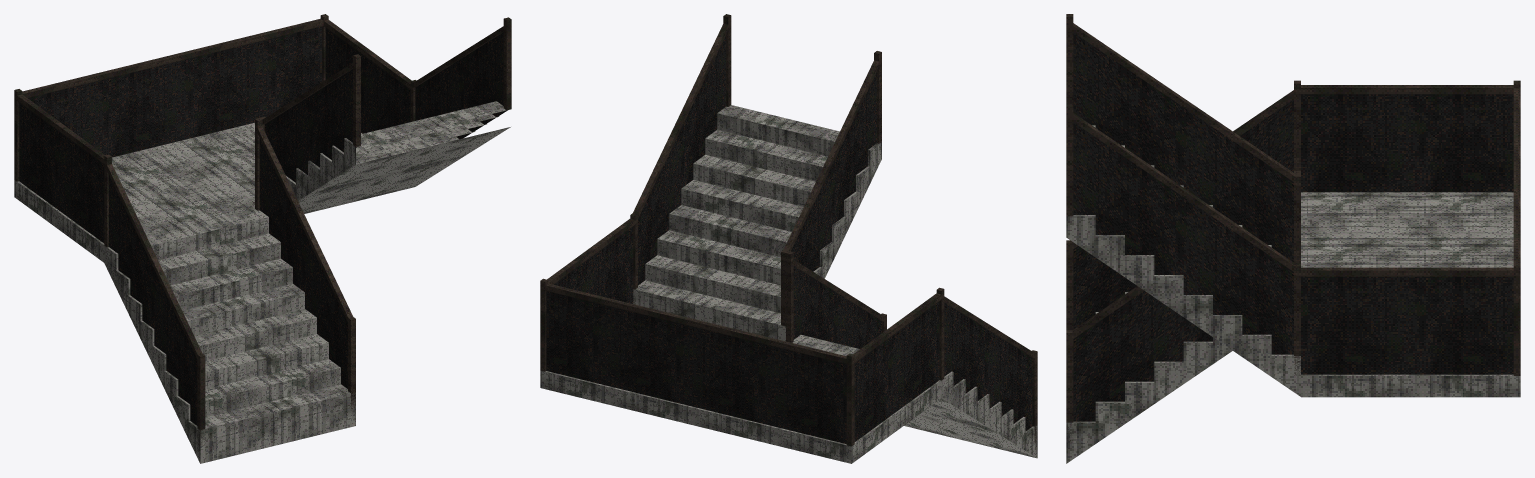
The model's file is stair_u.gltf.
3 views of the same model, side by side, from view 1: azimuth 30°, elevation 25°; view 2: azimuth 150°, elevation 25°; view 3: azimuth 270°, elevation 25° (orthographic). The views are drawn at different scales.
Parts seen in each view (by area): view 1: stair_u; view 2: stair_u; view 3: stair_u.
Boxes of the visible parts, box(x1,y1,x2,y2) form: stair_u: box(14, 14, 511, 463); stair_u: box(540, 14, 1037, 463); stair_u: box(1066, 14, 1520, 463).
Size of what is drawn, in the model's own units: 3.74 by 4.23 by 3.87.
Materials: 4 (4 with a texture image).
